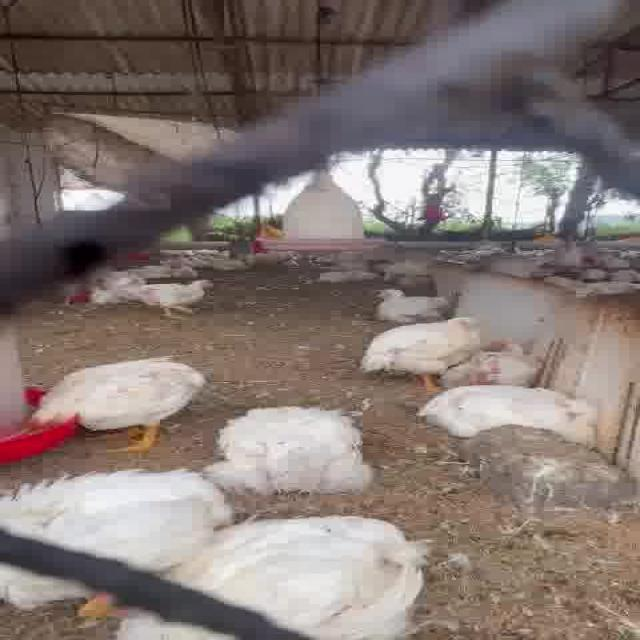AbNormal: (133, 509, 434, 640), (6, 468, 228, 598), (194, 405, 372, 495), (419, 382, 612, 438), (435, 342, 586, 397), (358, 284, 462, 323)
Normal: (23, 347, 222, 456), (368, 312, 488, 388), (124, 275, 242, 326)
